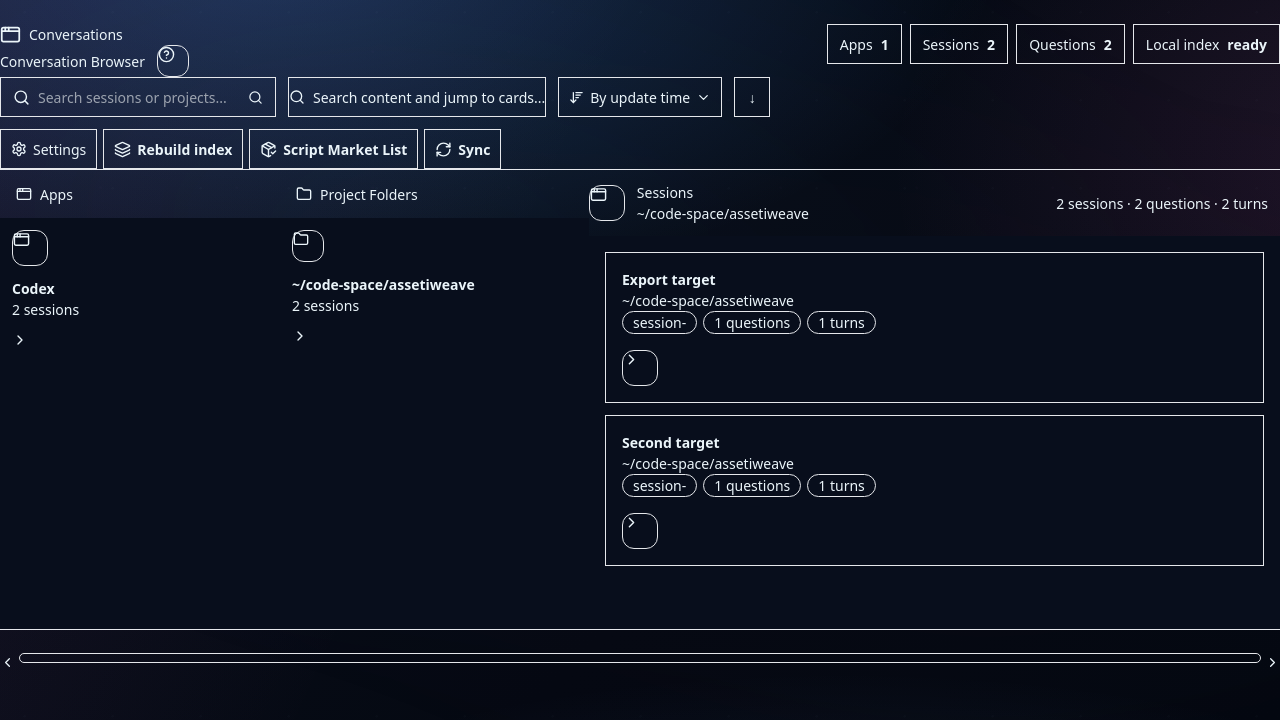
Scenario: ConversationsPage sync scope › ignores an older session response after switching to a newer session
Click the button named "Open session Export target" at (640, 368), box [622,350,658,386]
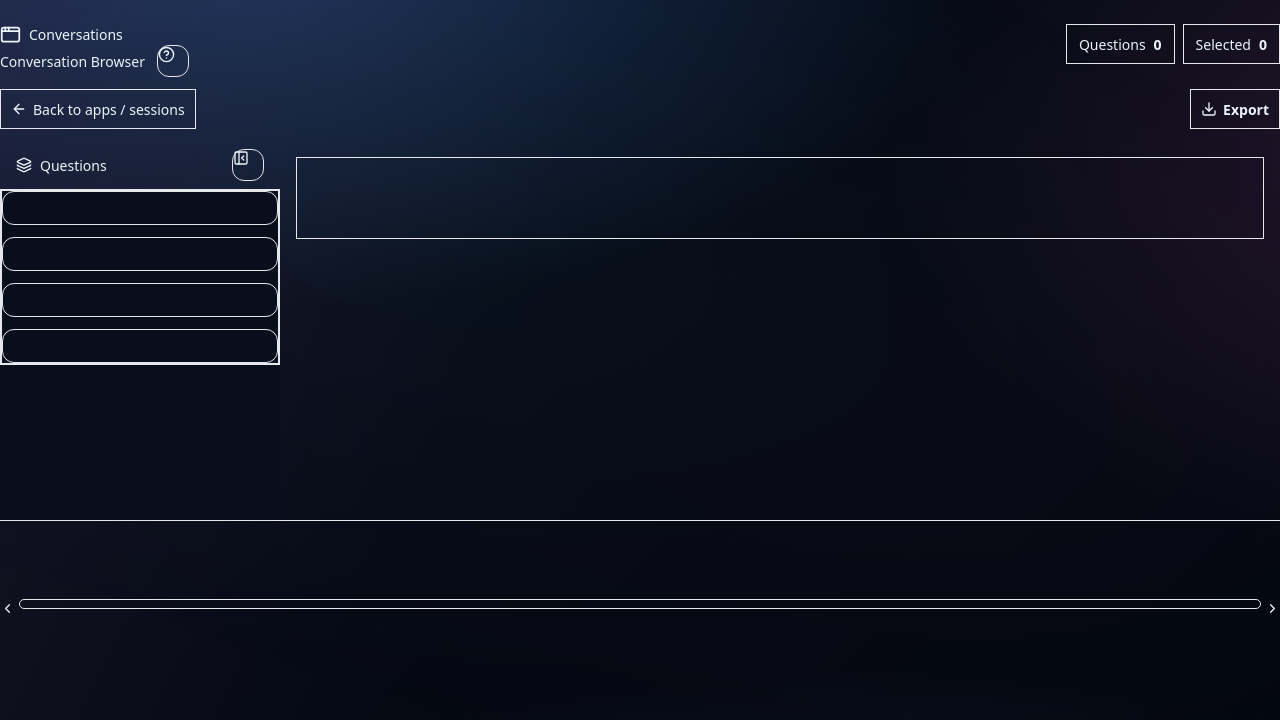
Click the button "Back to apps / sessions" at (98, 109), box [0,89,196,129]
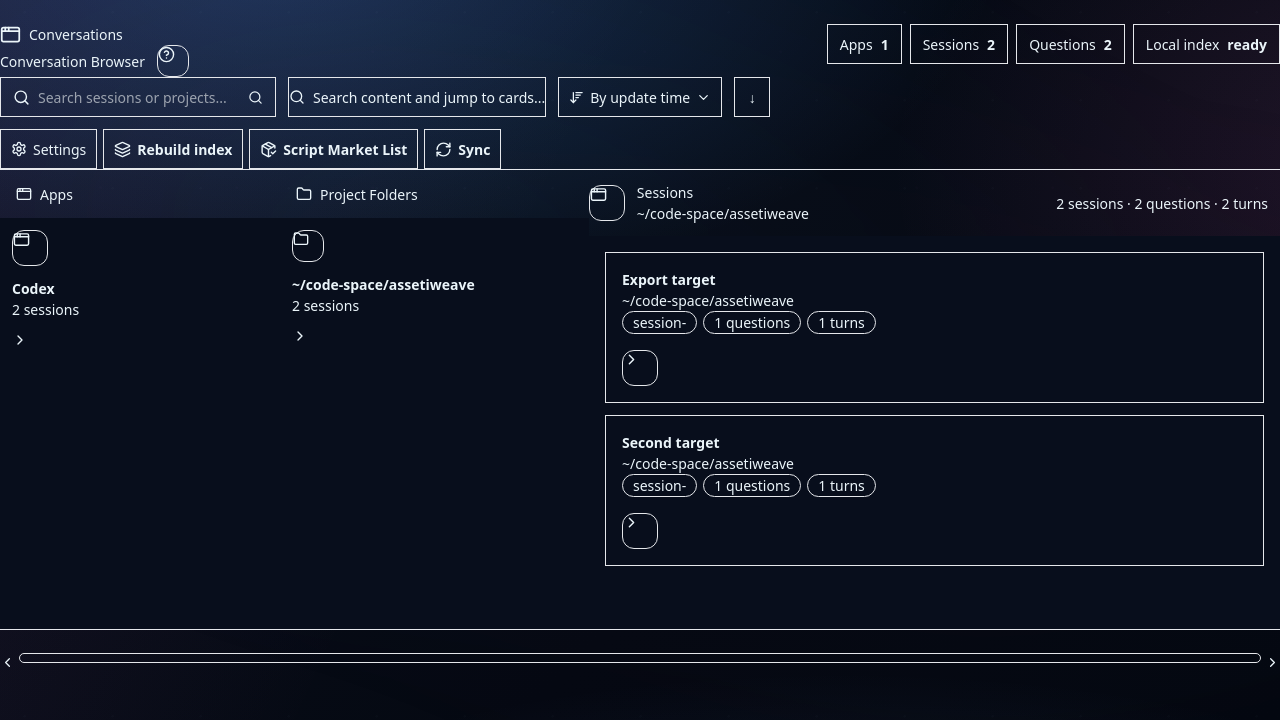
Click the button named "Open session Second target" at (640, 531), box [622,513,658,549]
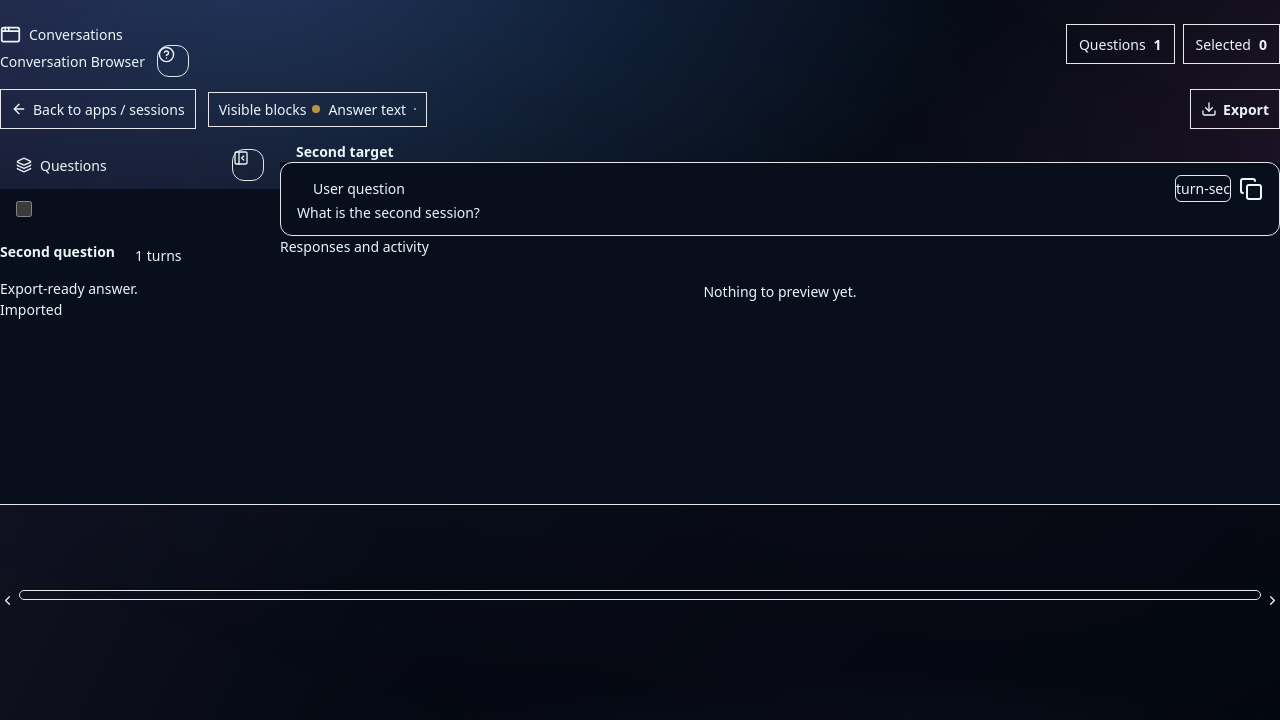
Expected: the heading "Second question" is shown, [0,241,115,262]
